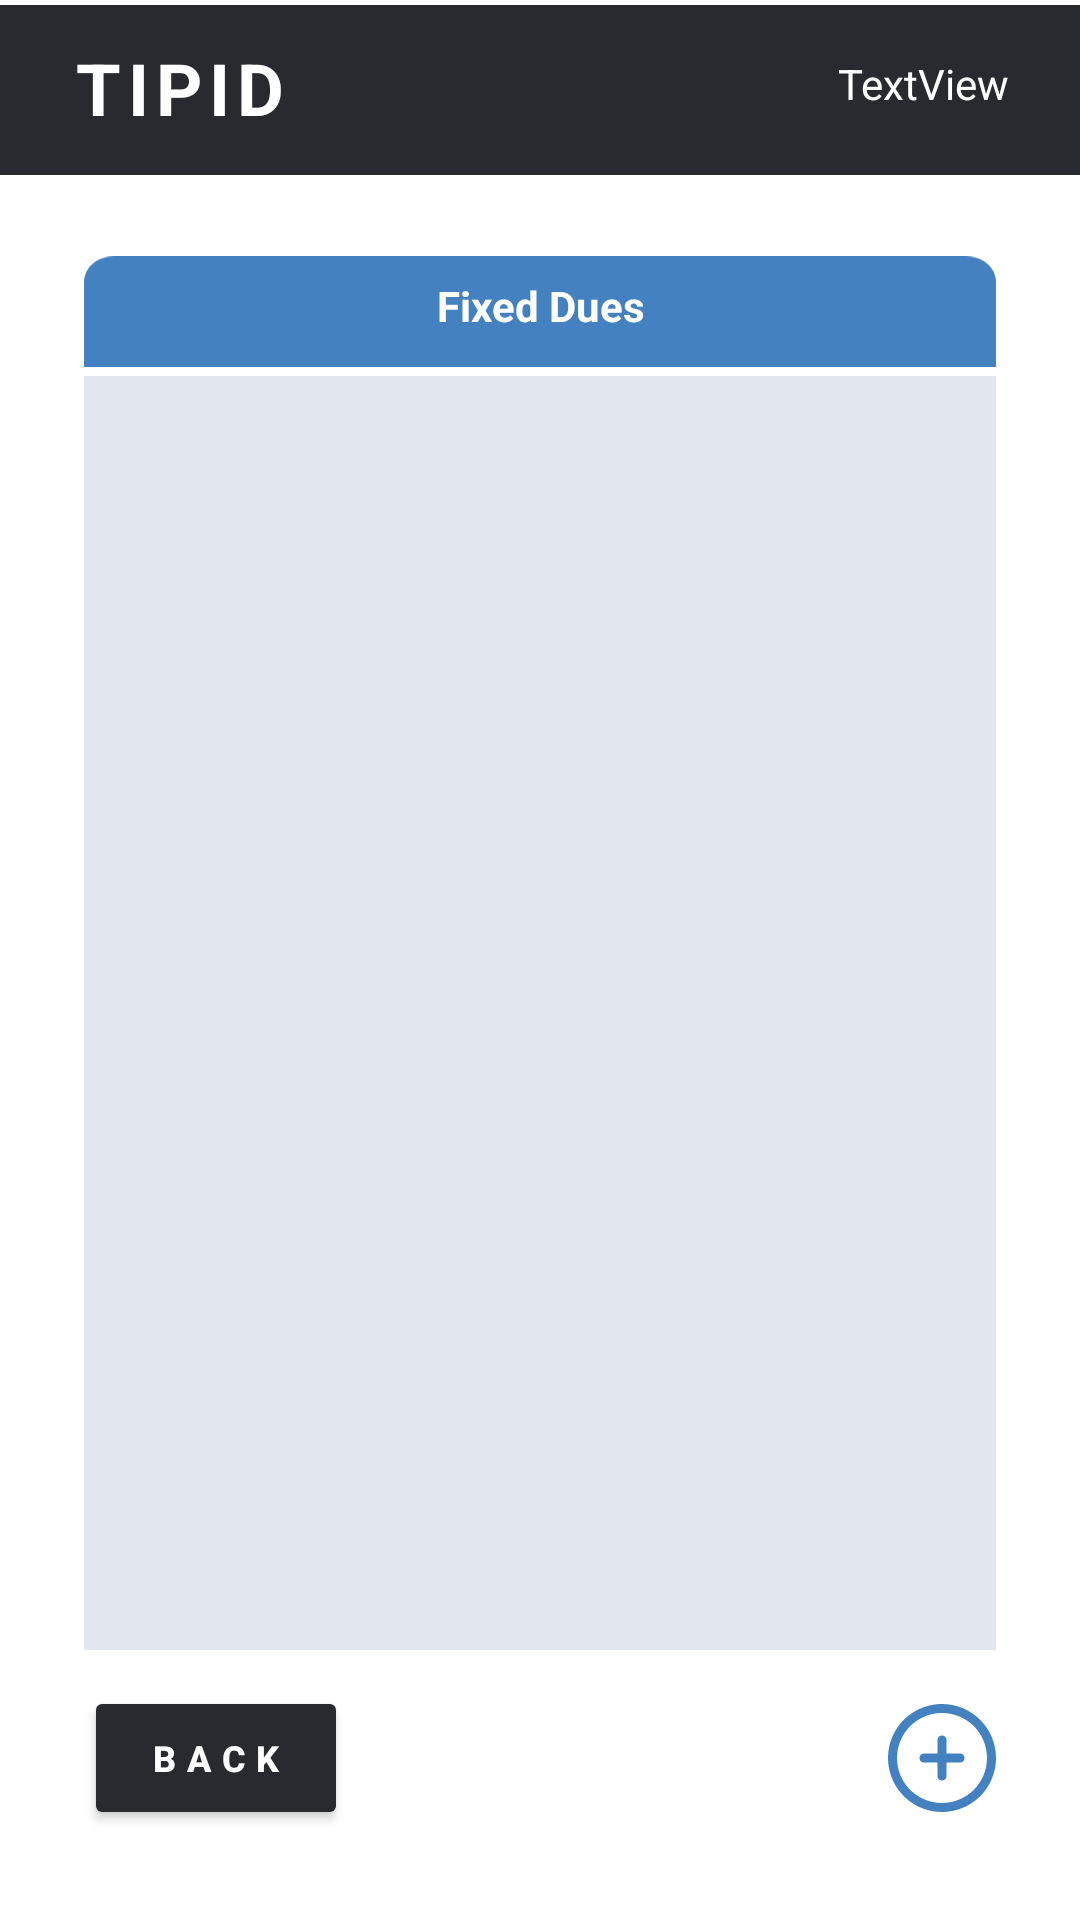

Icon click points for this 1080x1920 phone screenshot, format [x,y]:
add: [942,1758]
